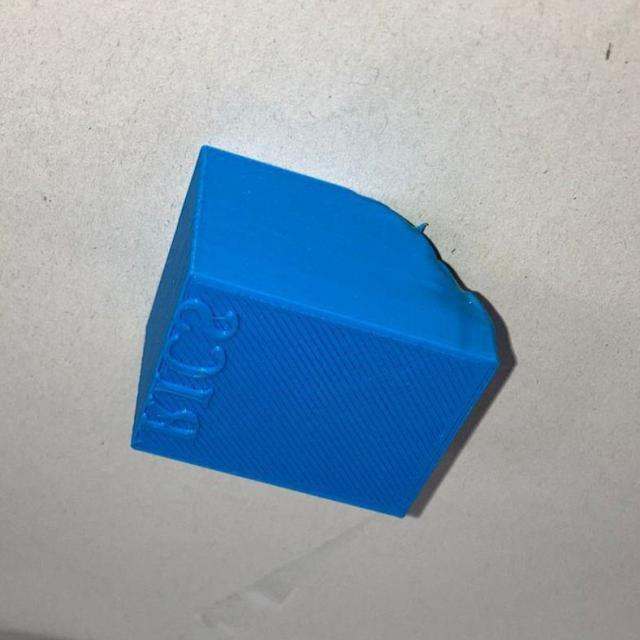Warping: (405, 223, 491, 299)
